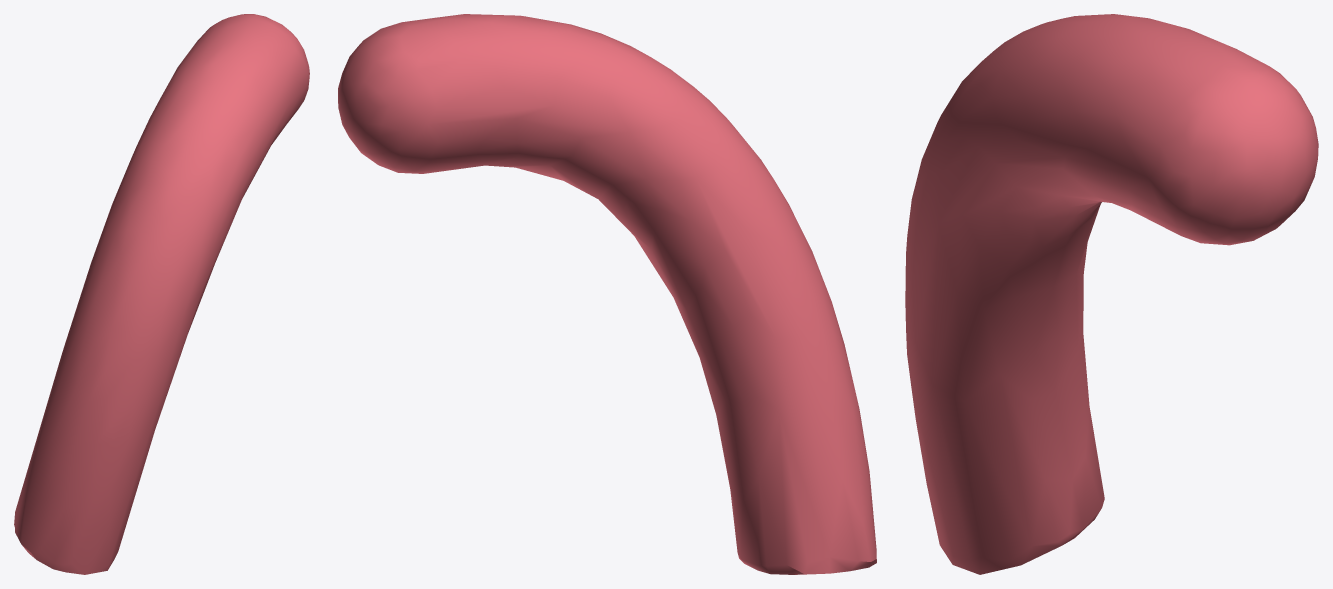
Rendered from fma66551_fj2246.glb.
The picture shows the model from 3 angles, left to right: view 1: azimuth 30°, elevation 25°; view 2: azimuth 150°, elevation 25°; view 3: azimuth 270°, elevation 25°; orthographic projection. The views are drawn at different scales.
Visible parts, largest first — view 1: FMA66551_FJ2246; view 2: FMA66551_FJ2246; view 3: FMA66551_FJ2246.
Part boxes in pixels (<box>): FMA66551_FJ2246: <box>14,14,309,574</box>; FMA66551_FJ2246: <box>338,14,876,574</box>; FMA66551_FJ2246: <box>905,14,1318,574</box>.
Bounding box in the file's own units: 0.013 × 0.0155 × 0.00856.
